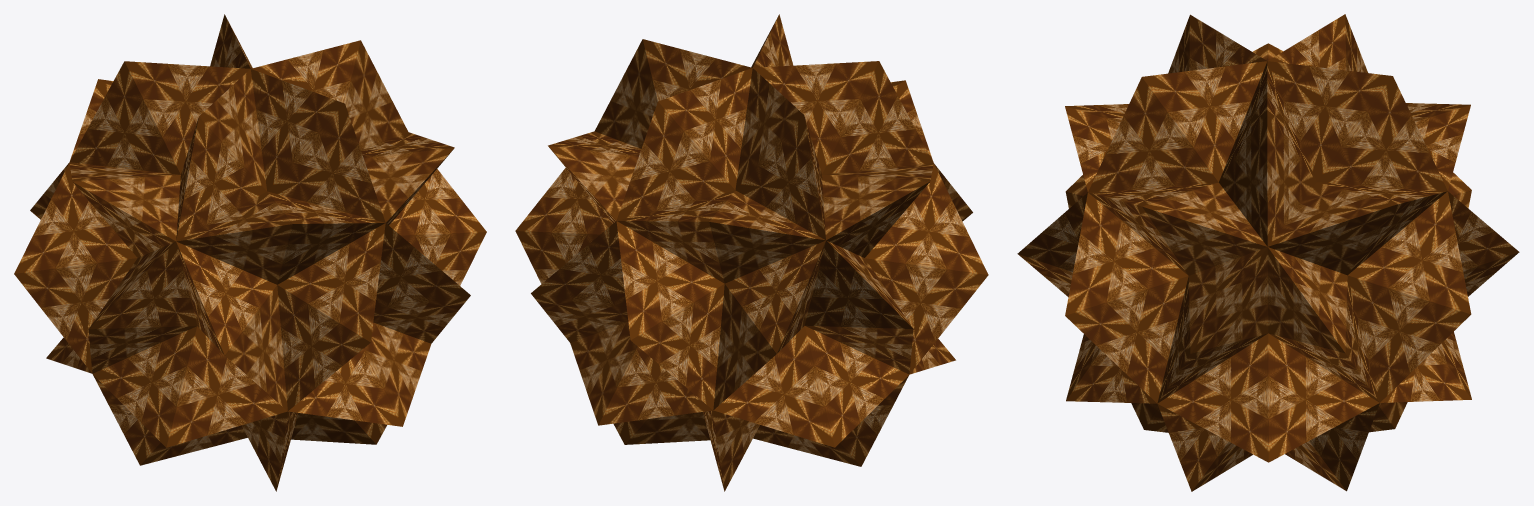
Rendered from 20Mobius120a.obj.
3 views of the same model, side by side, from view 1: azimuth 30°, elevation 25°; view 2: azimuth 150°, elevation 25°; view 3: azimuth 270°, elevation 25° (orthographic). The views are drawn at different scales.
Bounding box in the file's own units: 3.62 × 3.25 × 3.8.
Materials: 1 (1 with a texture image).
